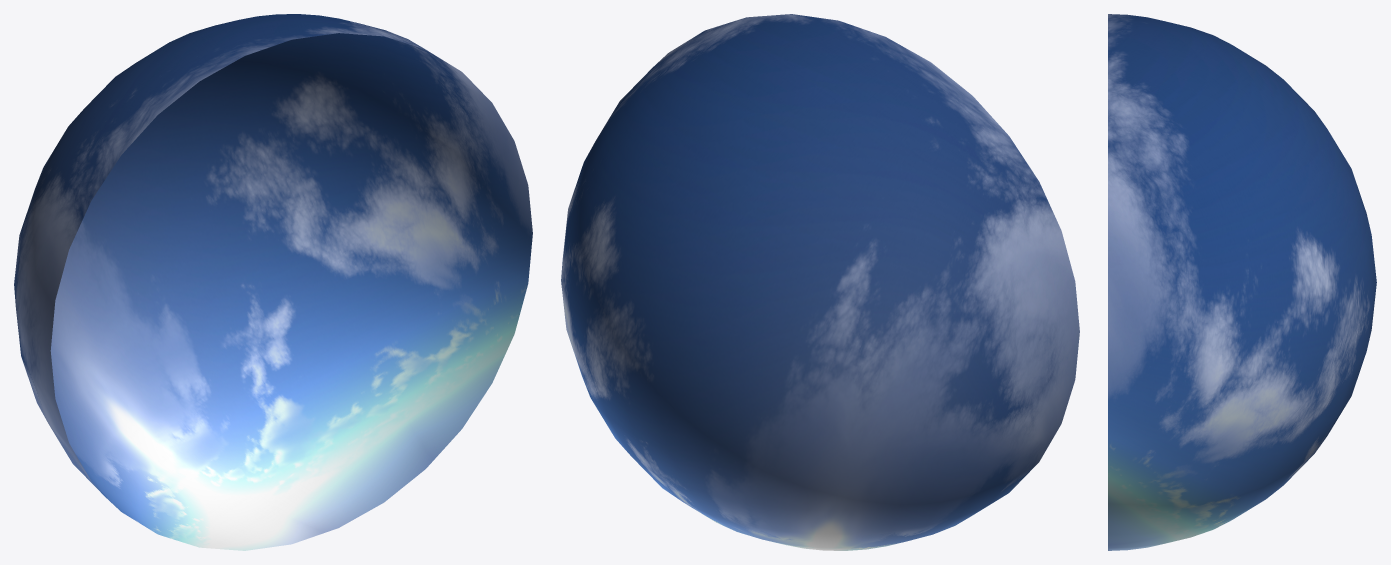
Rendered from SkySphere.fbx.
3 views of the same model, side by side, from view 1: azimuth 30°, elevation 25°; view 2: azimuth 150°, elevation 25°; view 3: azimuth 270°, elevation 25° (orthographic). The views are drawn at different scales.
Visible parts, largest first — view 1: Sphere; view 2: Sphere; view 3: Sphere.
Boxes of the visible parts, x1,y1,x2,y2 form: Sphere: (14, 14, 532, 550); Sphere: (561, 14, 1079, 550); Sphere: (1108, 14, 1376, 550).
Size of the model in its own units: 662 by 662 by 331.
